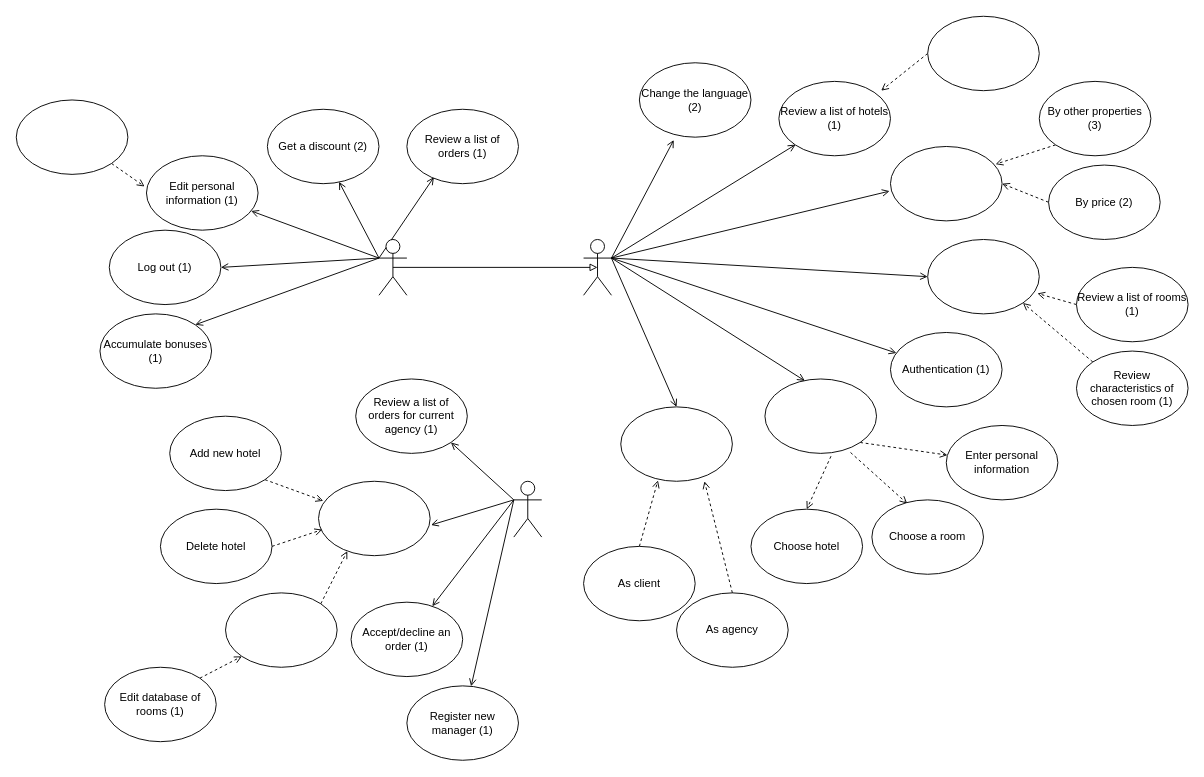
This 1204x777 diagram has some shape labels left out. The shapes that lost their labels are listed below. From the top down, each one's centre as x and y in pixels, then its label:
At point 983,53: "Review hotels on map (2)".
At point 71,136: "Add a credit card (2)".
At point 946,183: "Sort hotels (2)".
At point 392,267: "Client".
At point 597,267: "Guest".
At point 983,276: "View characteristics of chosen hotel (1)".
At point 820,415: "Book hotel (1)".
At point 676,443: "Registration (1)".
At point 374,518: "Edit database of hotels (1)".
At point 527,508: "Manager".
At point 281,629: "Edit information about hotel".
